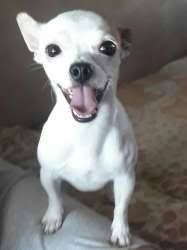chihuahua: (9, 5, 154, 250)
